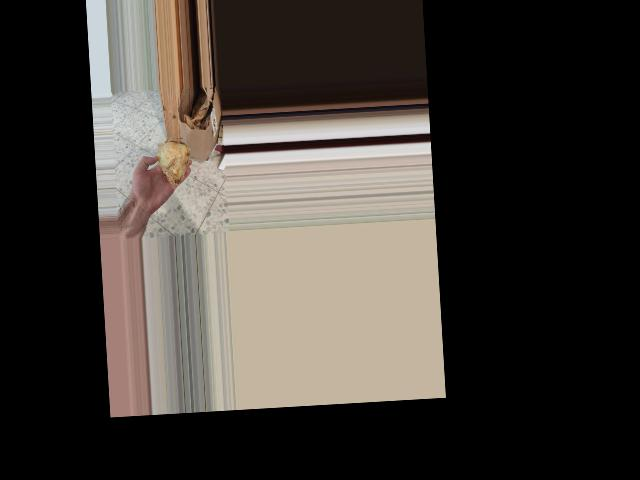onion: (150, 136, 193, 189)
